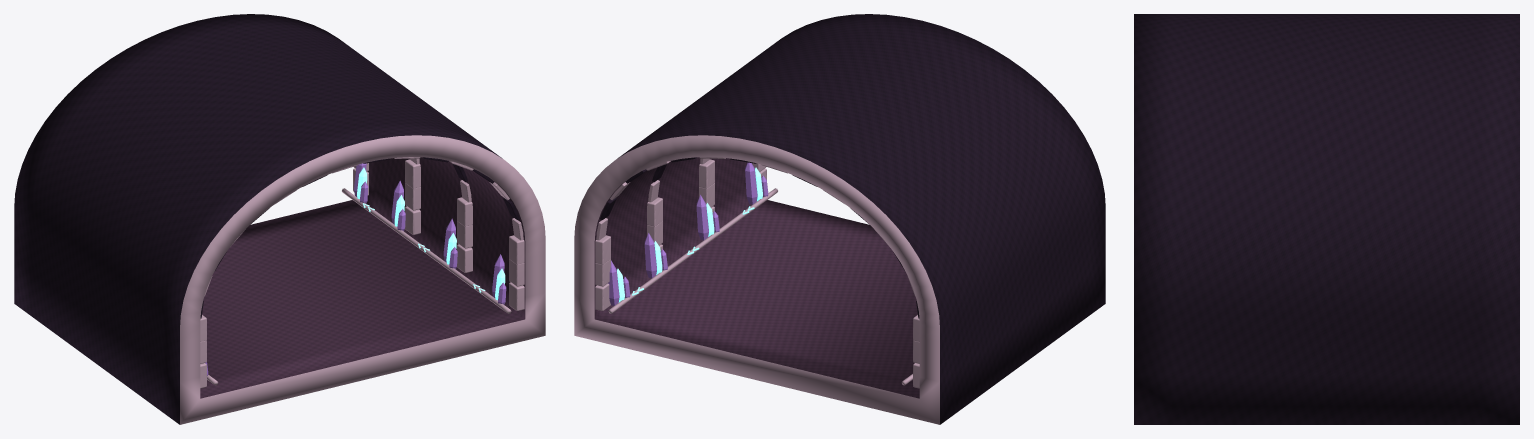
Rendered from straight_12m.glb.
The picture shows the model from 3 angles, left to right: view 1: azimuth 30°, elevation 25°; view 2: azimuth 150°, elevation 25°; view 3: azimuth 270°, elevation 25°; orthographic projection. The views are drawn at different scales.
Visible parts, largest first — view 1: TunnelGeometry; view 2: TunnelGeometry; view 3: TunnelGeometry.
Part boxes in pixels (x1=…): TunnelGeometry: x1=14, y1=14, x2=545, y2=424; TunnelGeometry: x1=574, y1=14, x2=1105, y2=424; TunnelGeometry: x1=1134, y1=14, x2=1519, y2=424.
Size of the model in its own units: 15.3 by 9.52 by 12.
Materials: 5 (2 with a texture image).
